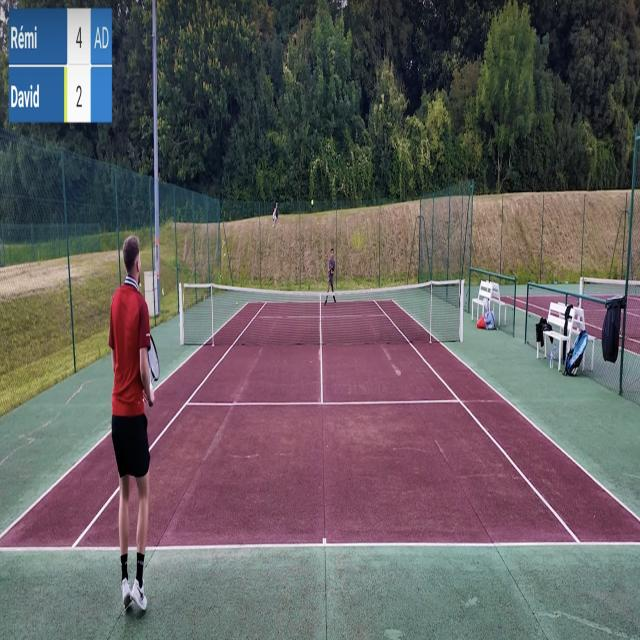ball: (310, 199, 314, 206), (236, 301, 238, 306)
